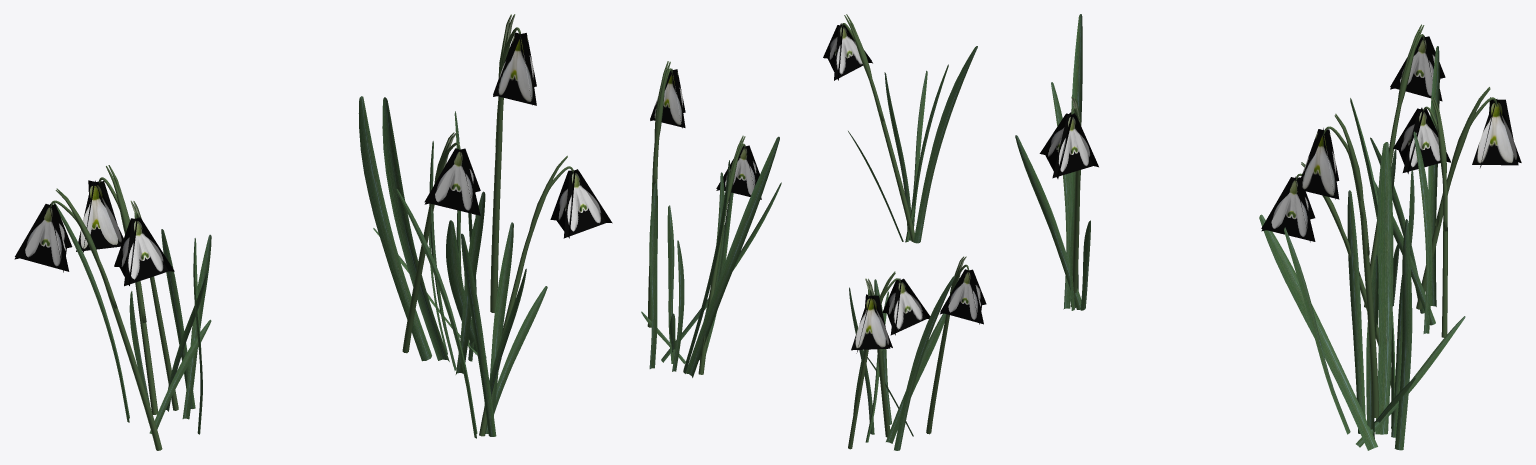
The picture shows the model from 3 angles, left to right: view 1: azimuth 30°, elevation 25°; view 2: azimuth 150°, elevation 25°; view 3: azimuth 270°, elevation 25°; orthographic projection. The views are drawn at different scales.
Visible parts, largest first — view 1: bd22425d; view 2: bd22425d; view 3: bd22425d.
Part boxes in pixels (box(x1,y1,x2,y2)): bd22425d: box(14, 14, 612, 450); bd22425d: box(641, 14, 986, 450); bd22425d: box(1015, 14, 1521, 450).
Size of the model in its own units: 0.1385 by 0.1043 by 0.135.
Materials: 4 (2 with a texture image).
